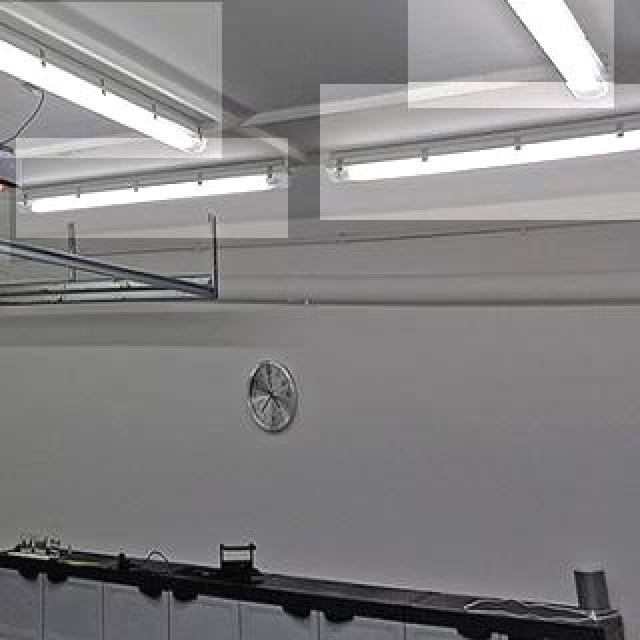fluorescent tube: (0, 4, 226, 164), (327, 102, 640, 205), (0, 135, 300, 237), (400, 0, 612, 102), (0, 180, 18, 260)
